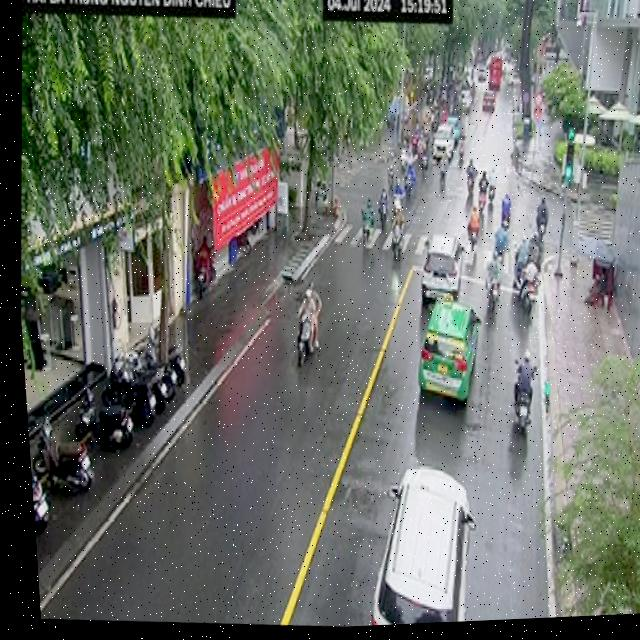Green: (557, 125, 578, 196)
